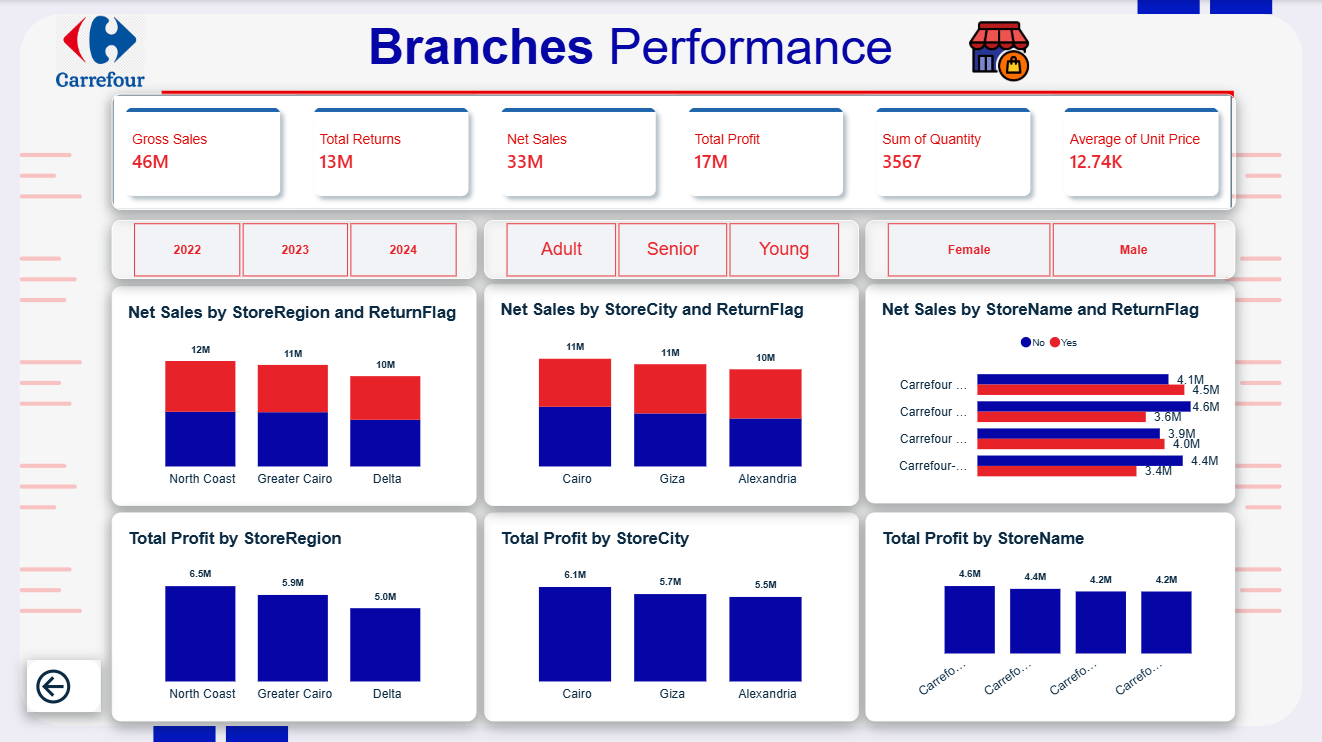

This screenshot's page, from the dashboard's own definition file:
{"tool":"powerbi","page":{"name":"Branches","canvas":[1280,720],"ordinal":3},"visuals":[{"type":"clusteredColumnChart","fields":{"Category":["Sheet1.StoreCity"],"Y":["Sheet1.Total Profit"]},"box":[429.5,506.3,441.9,214.1],"z":0},{"type":"columnChart","fields":{"Category":["Sheet1.StoreCity"],"Y":["Sheet1.Net Sales"],"Series":["Sheet1.ReturnFlag"]},"box":[429.5,284,441.9,211.3],"z":1000},{"type":"clusteredBarChart","fields":{"Category":["Sheet1.StoreName"],"Y":["Sheet1.Net Sales"],"Series":["Sheet1.ReturnFlag"]},"box":[882.3,284,388.3,211.3],"z":2000},{"type":"clusteredColumnChart","fields":{"Category":["Sheet1.StoreName"],"Y":["Sheet1.Total Profit"]},"box":[882.3,506.3,388.3,214.1],"z":3000},{"type":"columnChart","fields":{"Category":["Sheet1.StoreRegion"],"Y":["Sheet1.Net Sales"],"Series":["Sheet1.ReturnFlag"]},"box":[0,284,415.8,211.3],"z":4000},{"type":"clusteredColumnChart","fields":{"Category":["Sheet1.StoreRegion"],"Y":["Sheet1.Total Profit"]},"box":[0,506.3,415.8,214.1],"z":5000},{"type":"cardVisual","fields":{"Data":["Sheet1.Measuer 1","Sheet1.Total Returns","Sheet1.Net Sales","Sheet1.Total Profit","Sum(Sheet1.Quantity)","Avg(Sheet1.Unit Price)"]},"box":[0,86.4,1270.7,124.9],"z":6000},{"type":"textbox","box":[266.2,17.8,687.5,68.6],"z":7000},{"type":"image","box":[0,0,197.6,98.8],"z":8000},{"type":"image","box":[871.4,0,190.7,98.8],"z":9000},{"type":"slicer","fields":{"Values":["Sheet1.OrderDate.Variation.Date Hierarchy.Year"]},"box":[0,220.9,415.8,56.3],"z":10000},{"type":"slicer","fields":{"Values":["Sheet1.Correct Gender"]},"box":[886.5,220.9,384.2,56.3],"z":11000},{"type":"slicer","fields":{"Values":["Sheet1.Age Group"]},"box":[429.5,220.9,441.9,56.3],"z":12000},{"type":"actionButton","box":[1085.4,0,194.9,50.8],"z":13000}]}

Visuals, with their boxes in screenshot pixels (x1, y1, x2, y2), scaled from the page's 1280x720 canvas onto the 1322x742 screenshot:
clusteredColumnChart - Sheet1.StoreCity x Sheet1.Total Profit: bbox(444, 522, 900, 741)
columnChart - Sheet1.StoreCity x Sheet1.Net Sales: bbox(444, 293, 900, 510)
clusteredBarChart - Sheet1.StoreName x Sheet1.Net Sales: bbox(911, 293, 1312, 510)
clusteredColumnChart - Sheet1.StoreName x Sheet1.Total Profit: bbox(911, 522, 1312, 741)
columnChart - Sheet1.StoreRegion x Sheet1.Net Sales: bbox(0, 293, 429, 510)
clusteredColumnChart - Sheet1.StoreRegion x Sheet1.Total Profit: bbox(0, 522, 429, 741)
cardVisual - Sheet1.Measuer 1 x Sheet1.Total Returns: bbox(0, 89, 1312, 218)
textbox: bbox(275, 18, 985, 89)
image: bbox(0, 0, 204, 102)
image: bbox(900, 0, 1097, 102)
slicer - Sheet1.OrderDate.Variation.Date Hierarchy.Year: bbox(0, 228, 429, 286)
slicer - Sheet1.Correct Gender: bbox(916, 228, 1312, 286)
slicer - Sheet1.Age Group: bbox(444, 228, 900, 286)
actionButton: bbox(1121, 0, 1321, 52)
